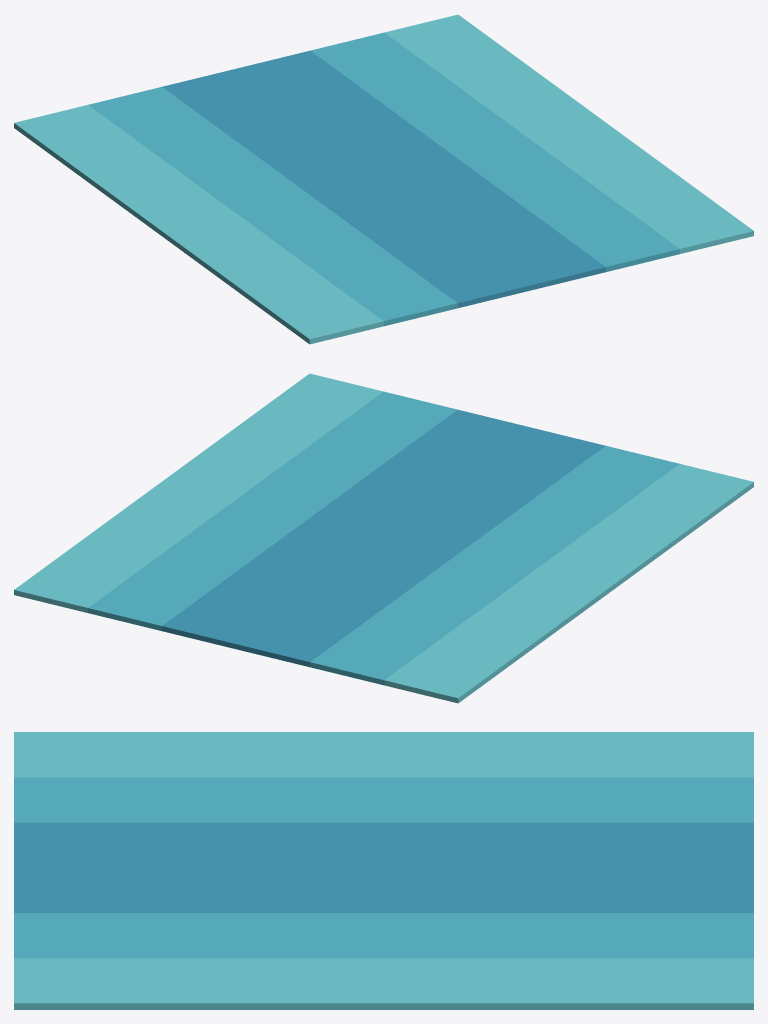
The picture shows the model from 3 angles, top to bottom: view 1: azimuth 30°, elevation 25°; view 2: azimuth 150°, elevation 25°; view 3: azimuth 270°, elevation 25°; orthographic projection. The views are drawn at different scales.
Parts seen in each view (by area): view 1: 支流1_六层水色.001; view 2: 支流1_六层水色.001; view 3: 支流1_六层水色.001.
Part boxes in pixels (x1,y1,x2,y2): 支流1_六层水色.001: [14, 14, 753, 344]; 支流1_六层水色.001: [14, 373, 753, 703]; 支流1_六层水色.001: [14, 732, 753, 1009].
Size of the model in its own units: 0.72 by 0.008 by 0.83.
